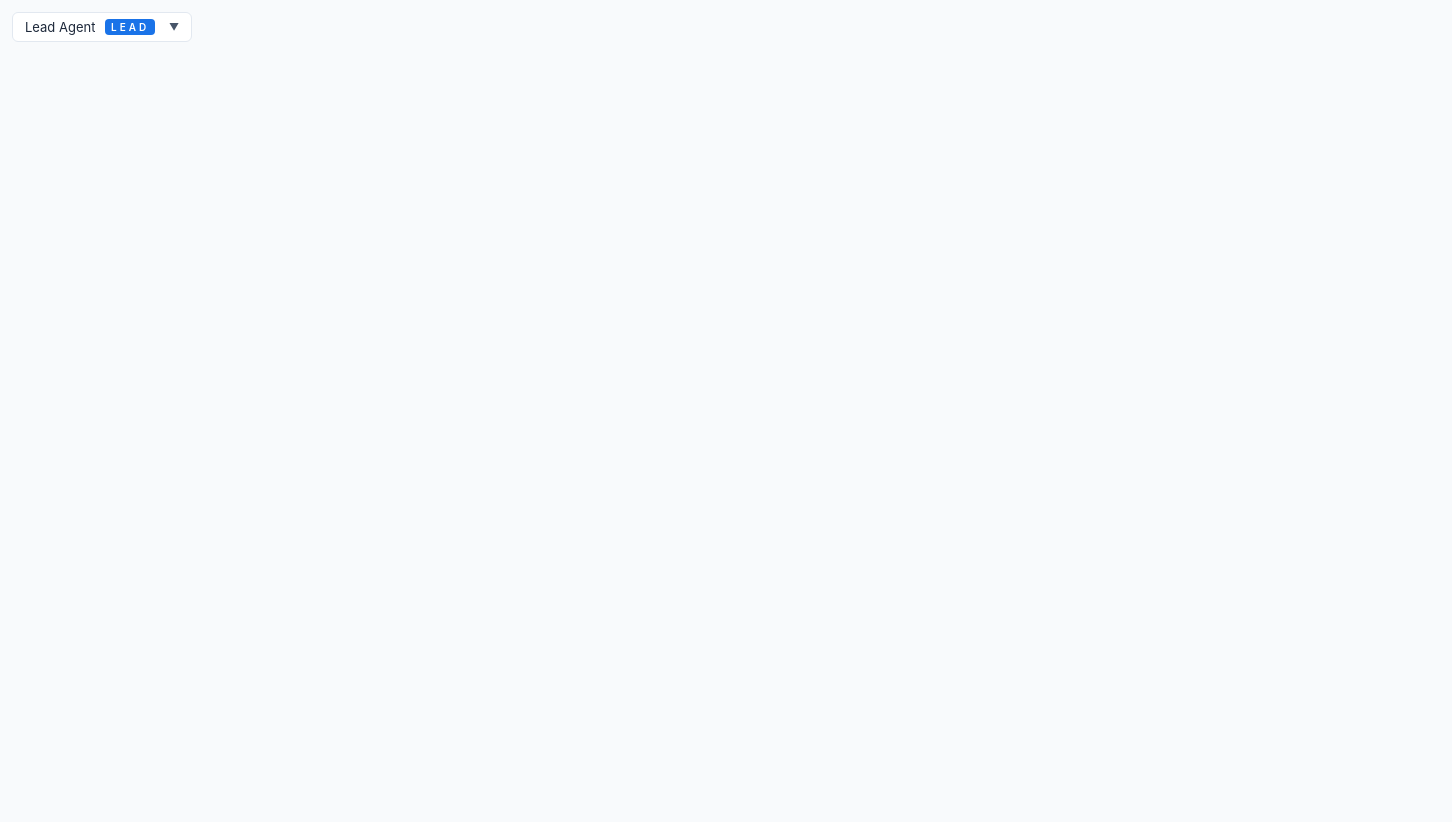
Test: TargetSelector › closes dropdown when clicking outside
Click the button with aria-label "current target: lead agent" at (102, 27), box [12,12,192,42]
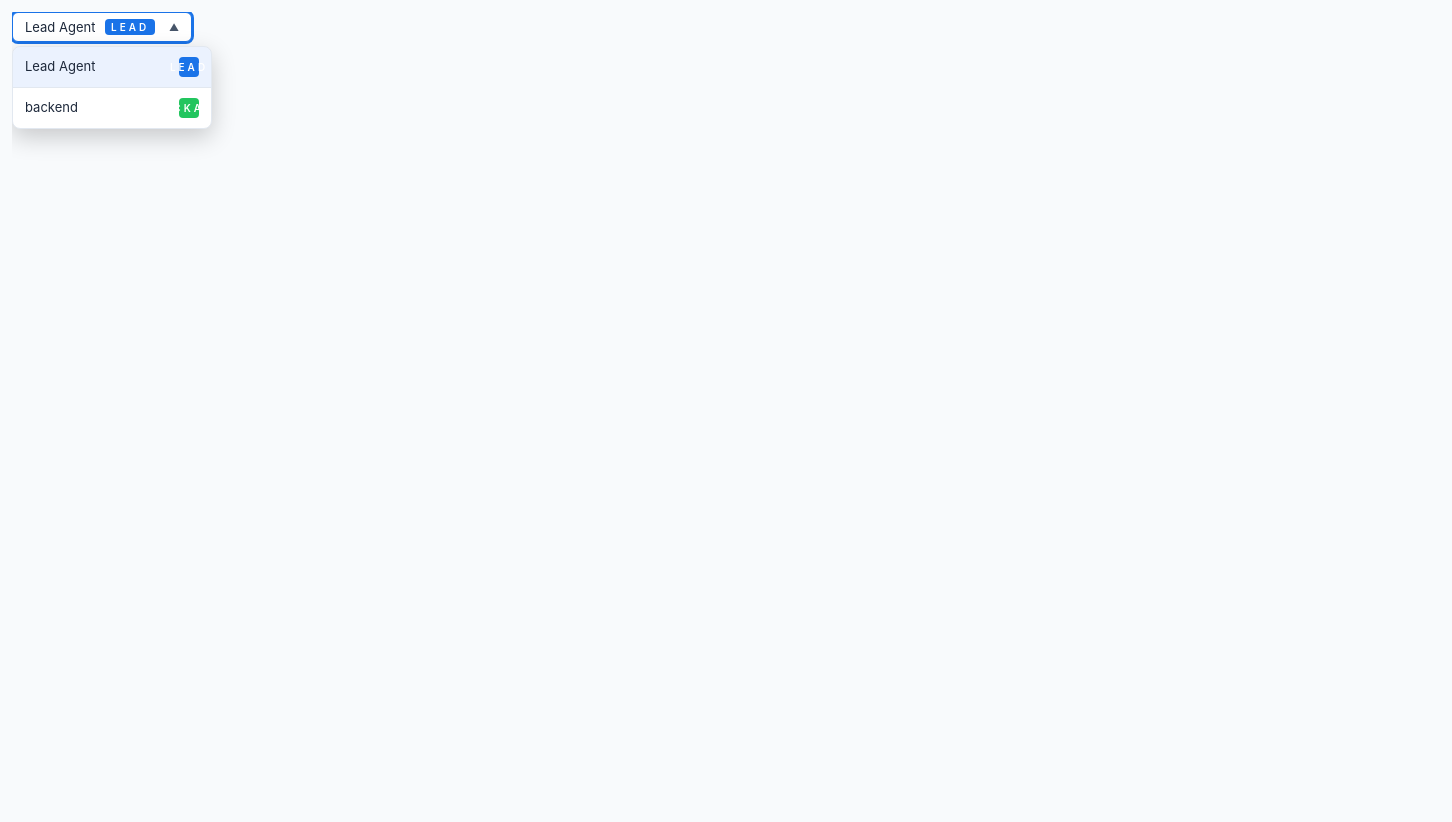
Result: the list is shown at [12,46,212,129]
Click outside
Click the element showing "Lead Agent lead ▲ Lead Agent lead backend package" at (732, 417), box [12,12,1451,821]
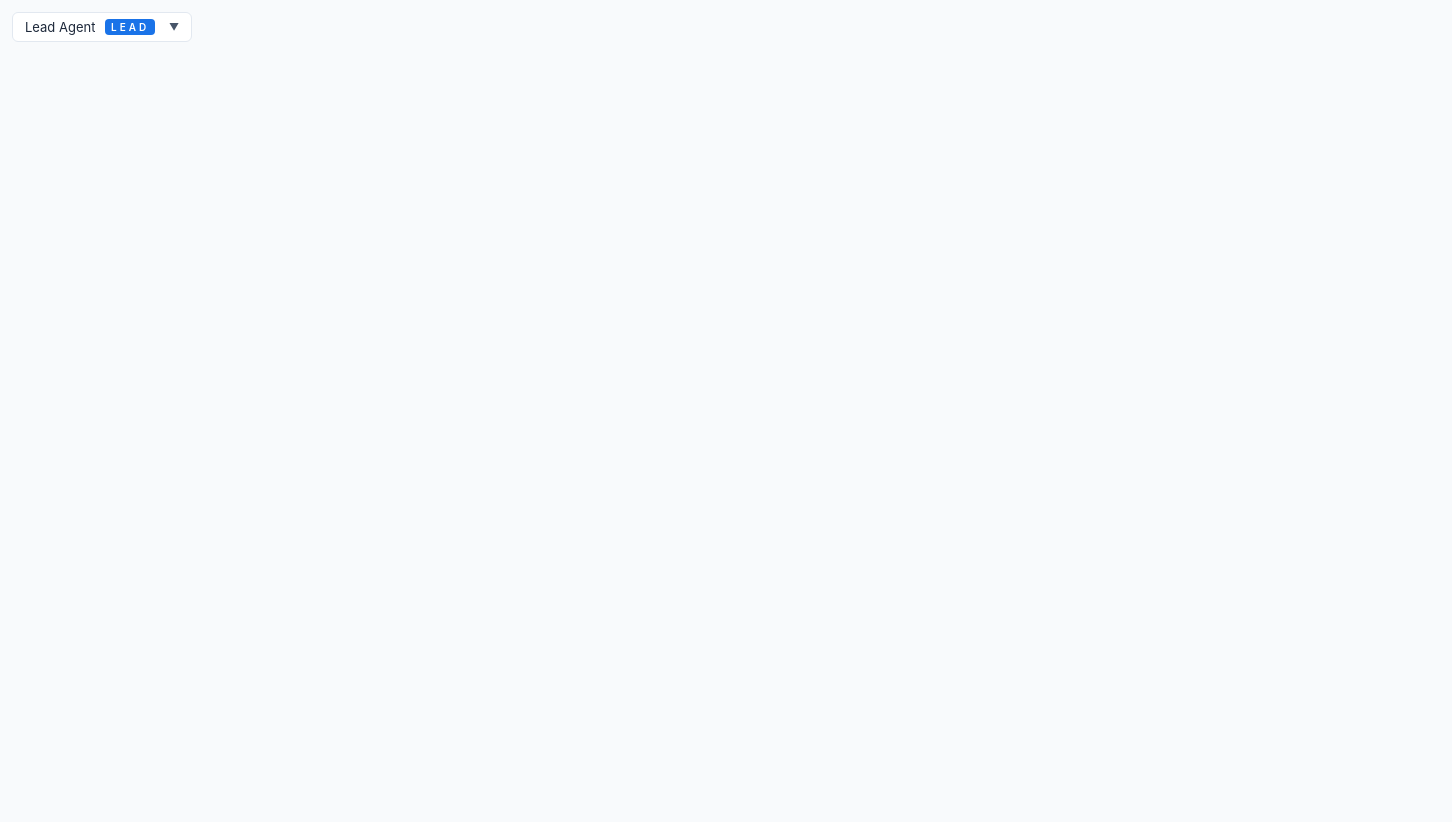
Result: the list is gone
